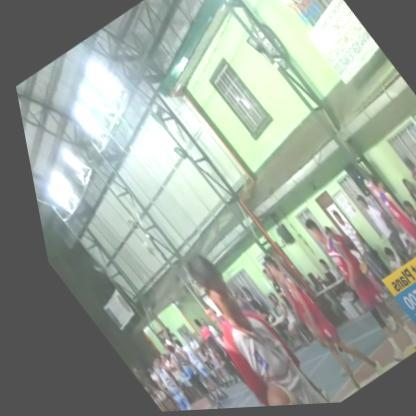basketball: (230, 367, 301, 409)
